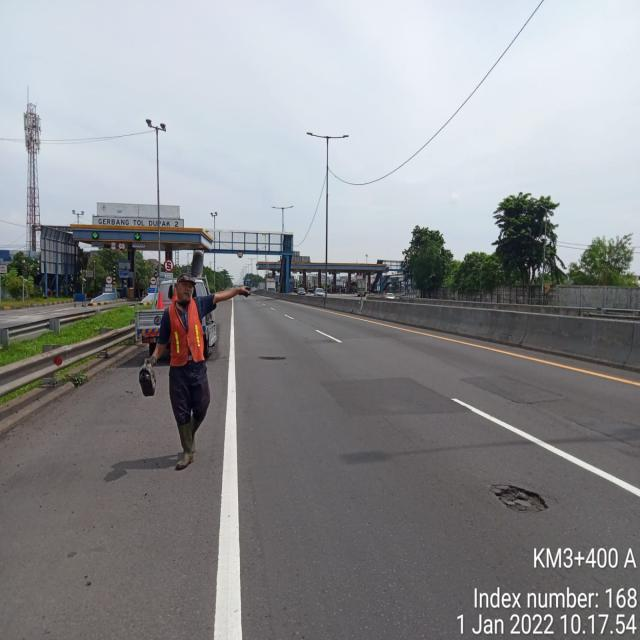Buraco: (486, 481, 552, 515), (256, 355, 288, 362)
